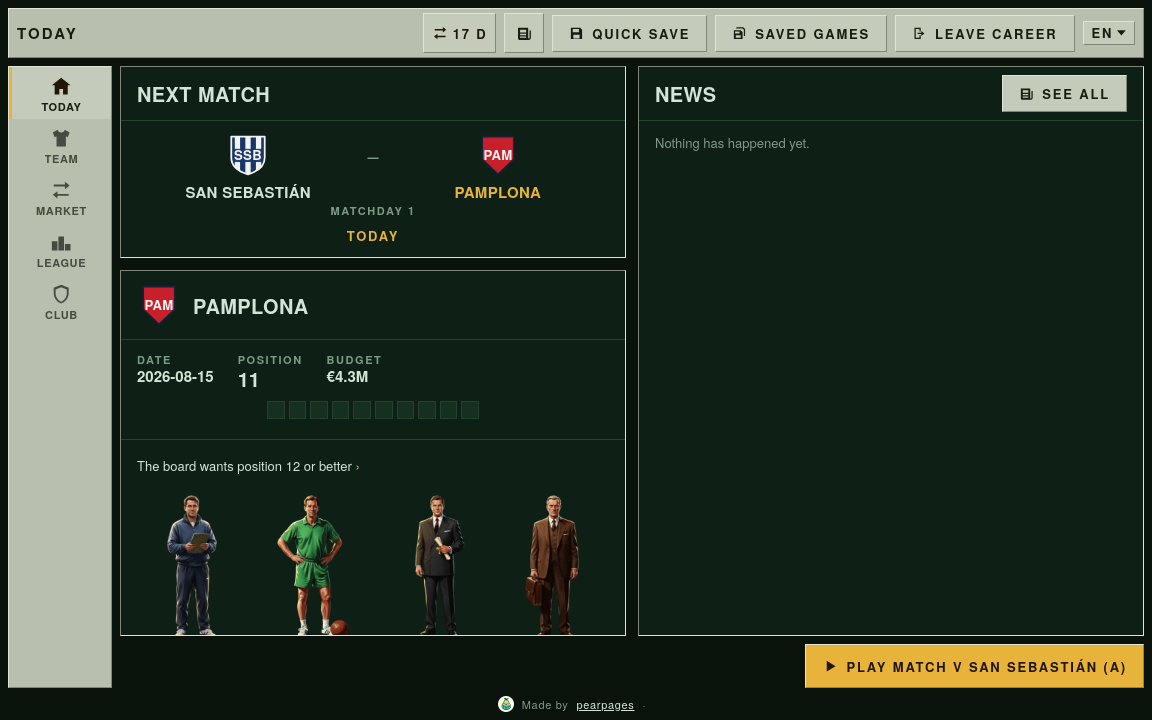
it: the language button › changes the whole interface, not just the menu
Expected: the heading "Today" is shown, [17, 22, 78, 44]
Click the button "EN": coordinates (1109, 33) [1082, 21, 1135, 45]
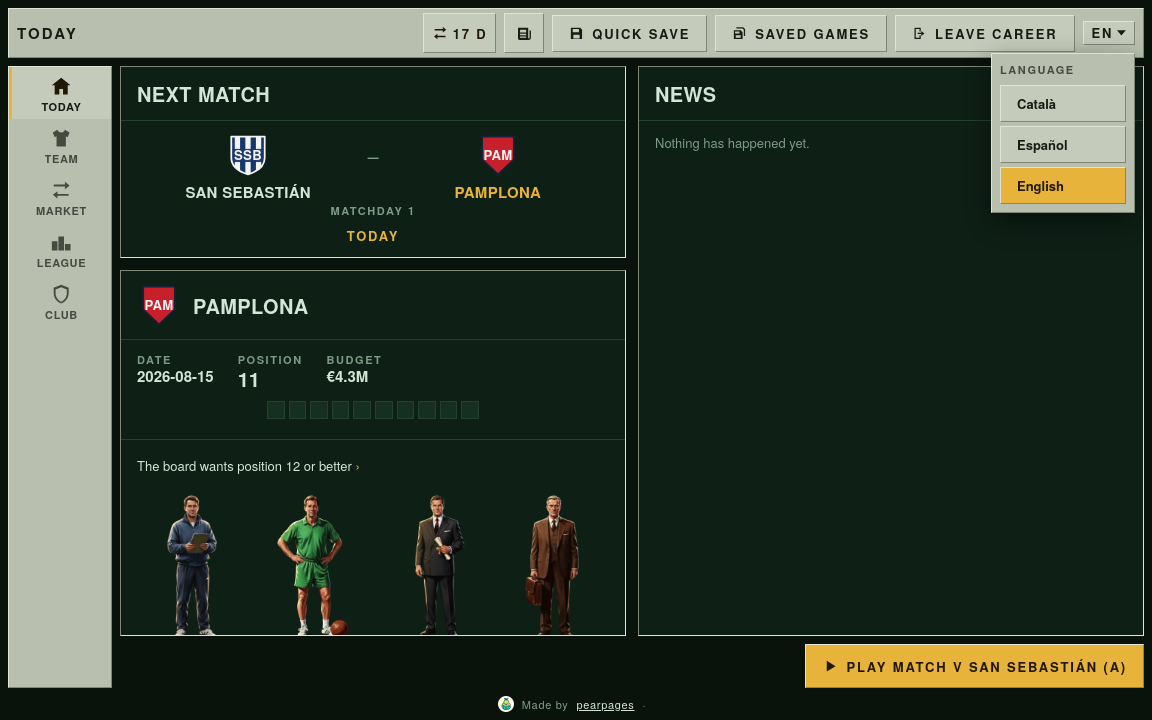
Click the button "Català": coordinates (1063, 103) [1000, 85, 1126, 122]
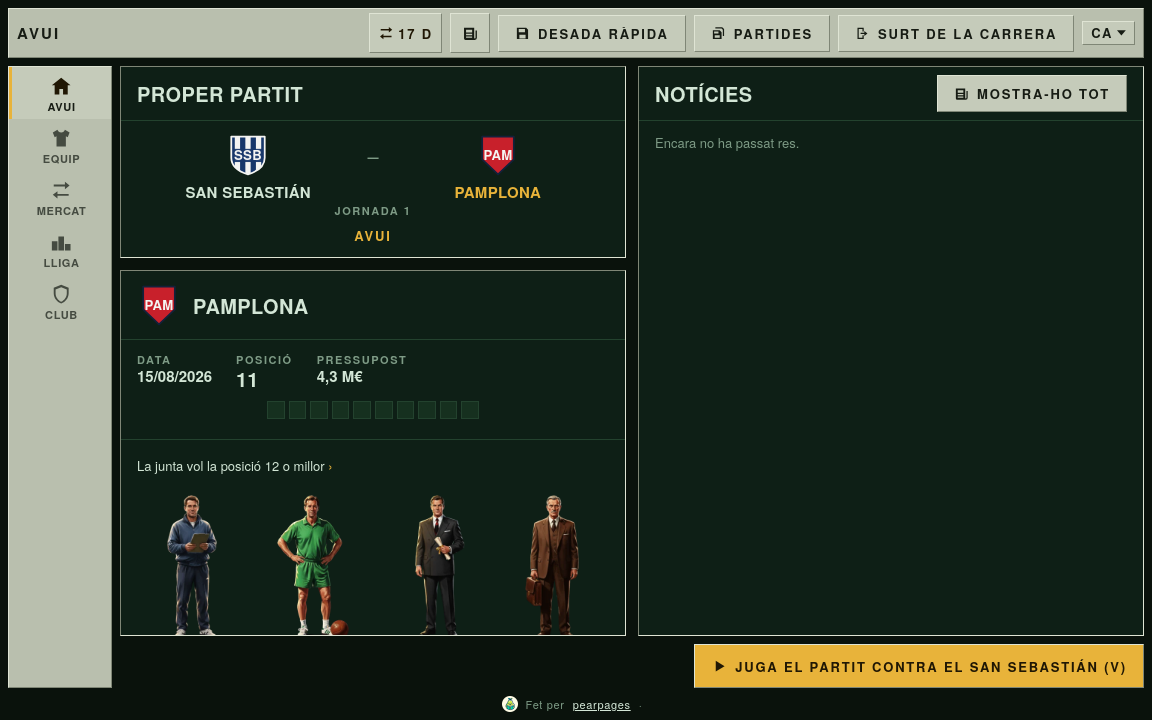
Result: the heading "Avui" is shown at [17, 22, 60, 44]
Result: the heading "Today" is gone
Click the button "CA": coordinates (1109, 33) [1082, 21, 1135, 45]
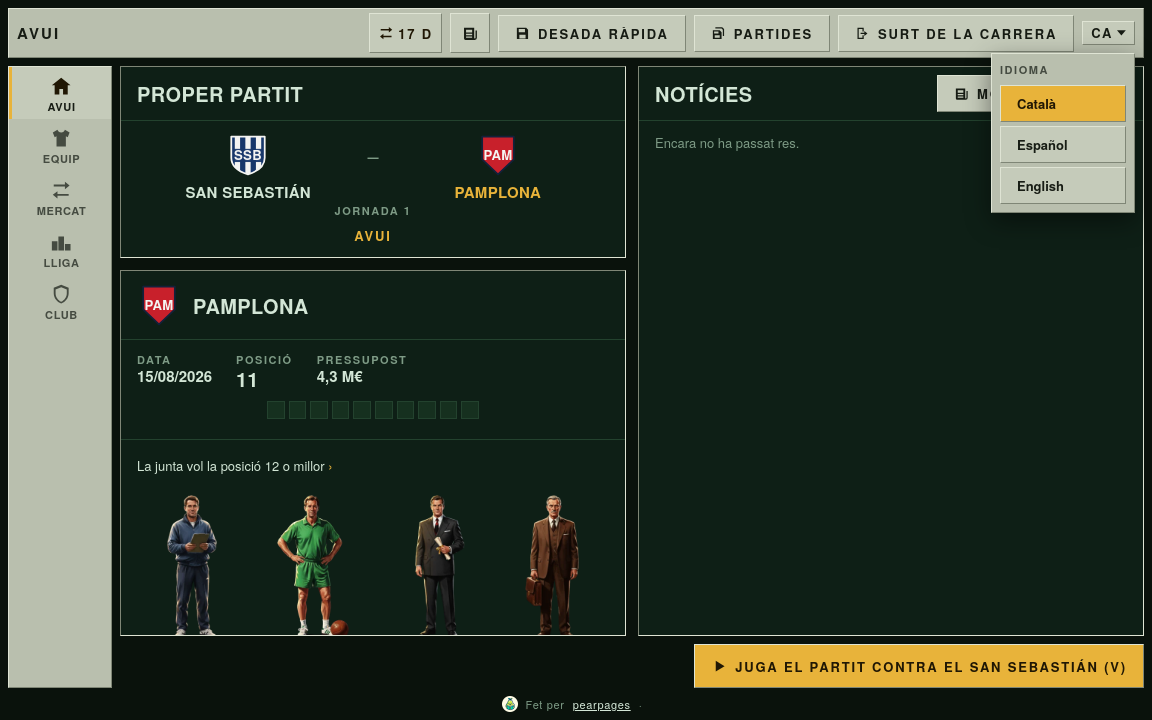
Click the button "Español": coordinates (1063, 144) [1000, 126, 1126, 163]
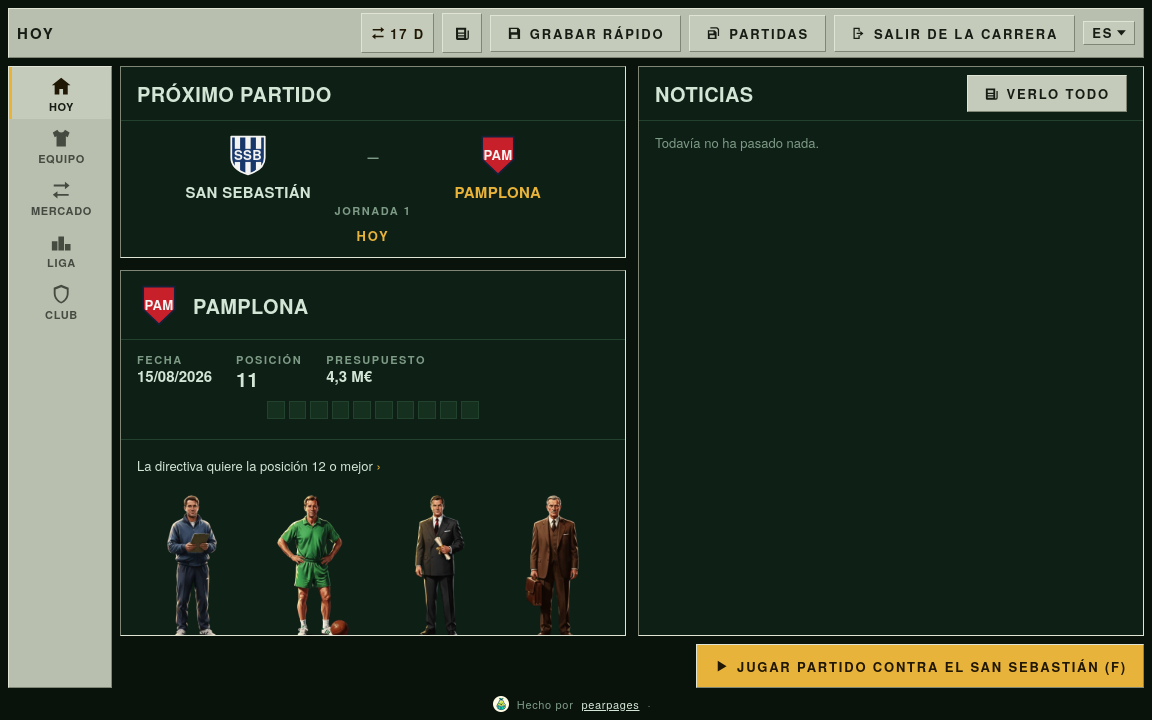
Result: the heading "Hoy" is shown at [17, 22, 55, 44]
